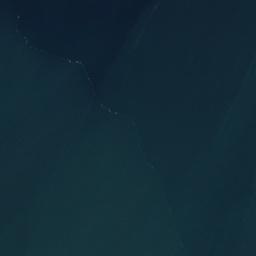Marine Debris: (16, 15, 20, 20)
